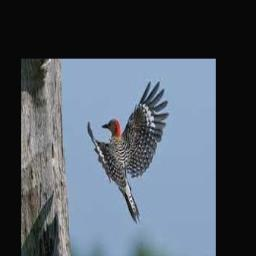Woodpecker: (87, 81, 169, 223)
